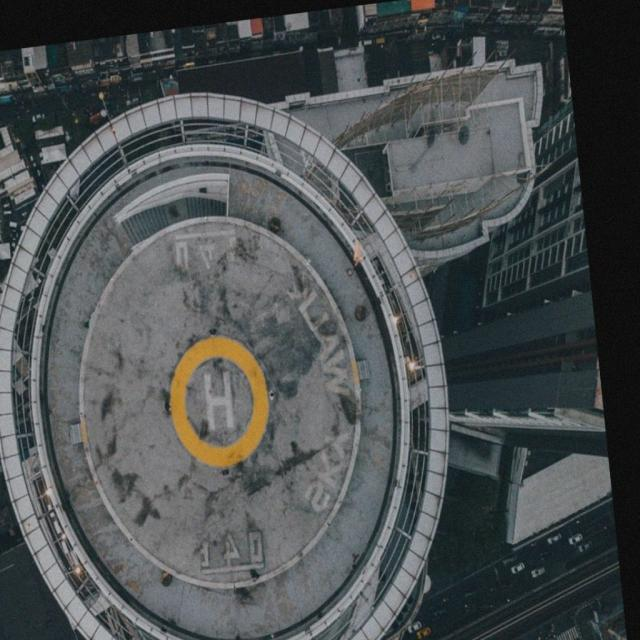helipad: (165, 330, 272, 470)
